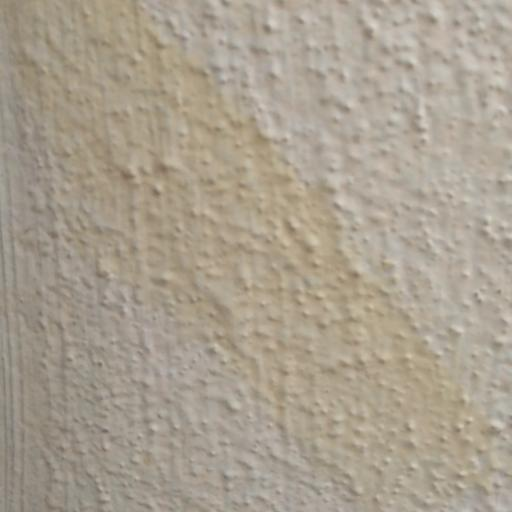stain: (30, 0, 479, 512)
